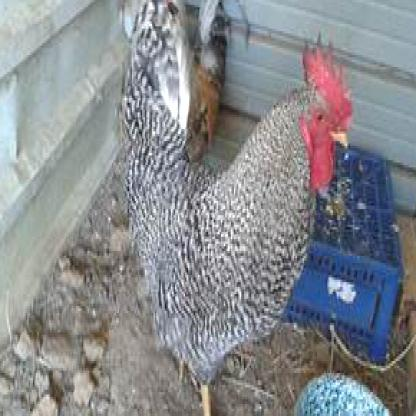chicken: (122, 31, 356, 414)
